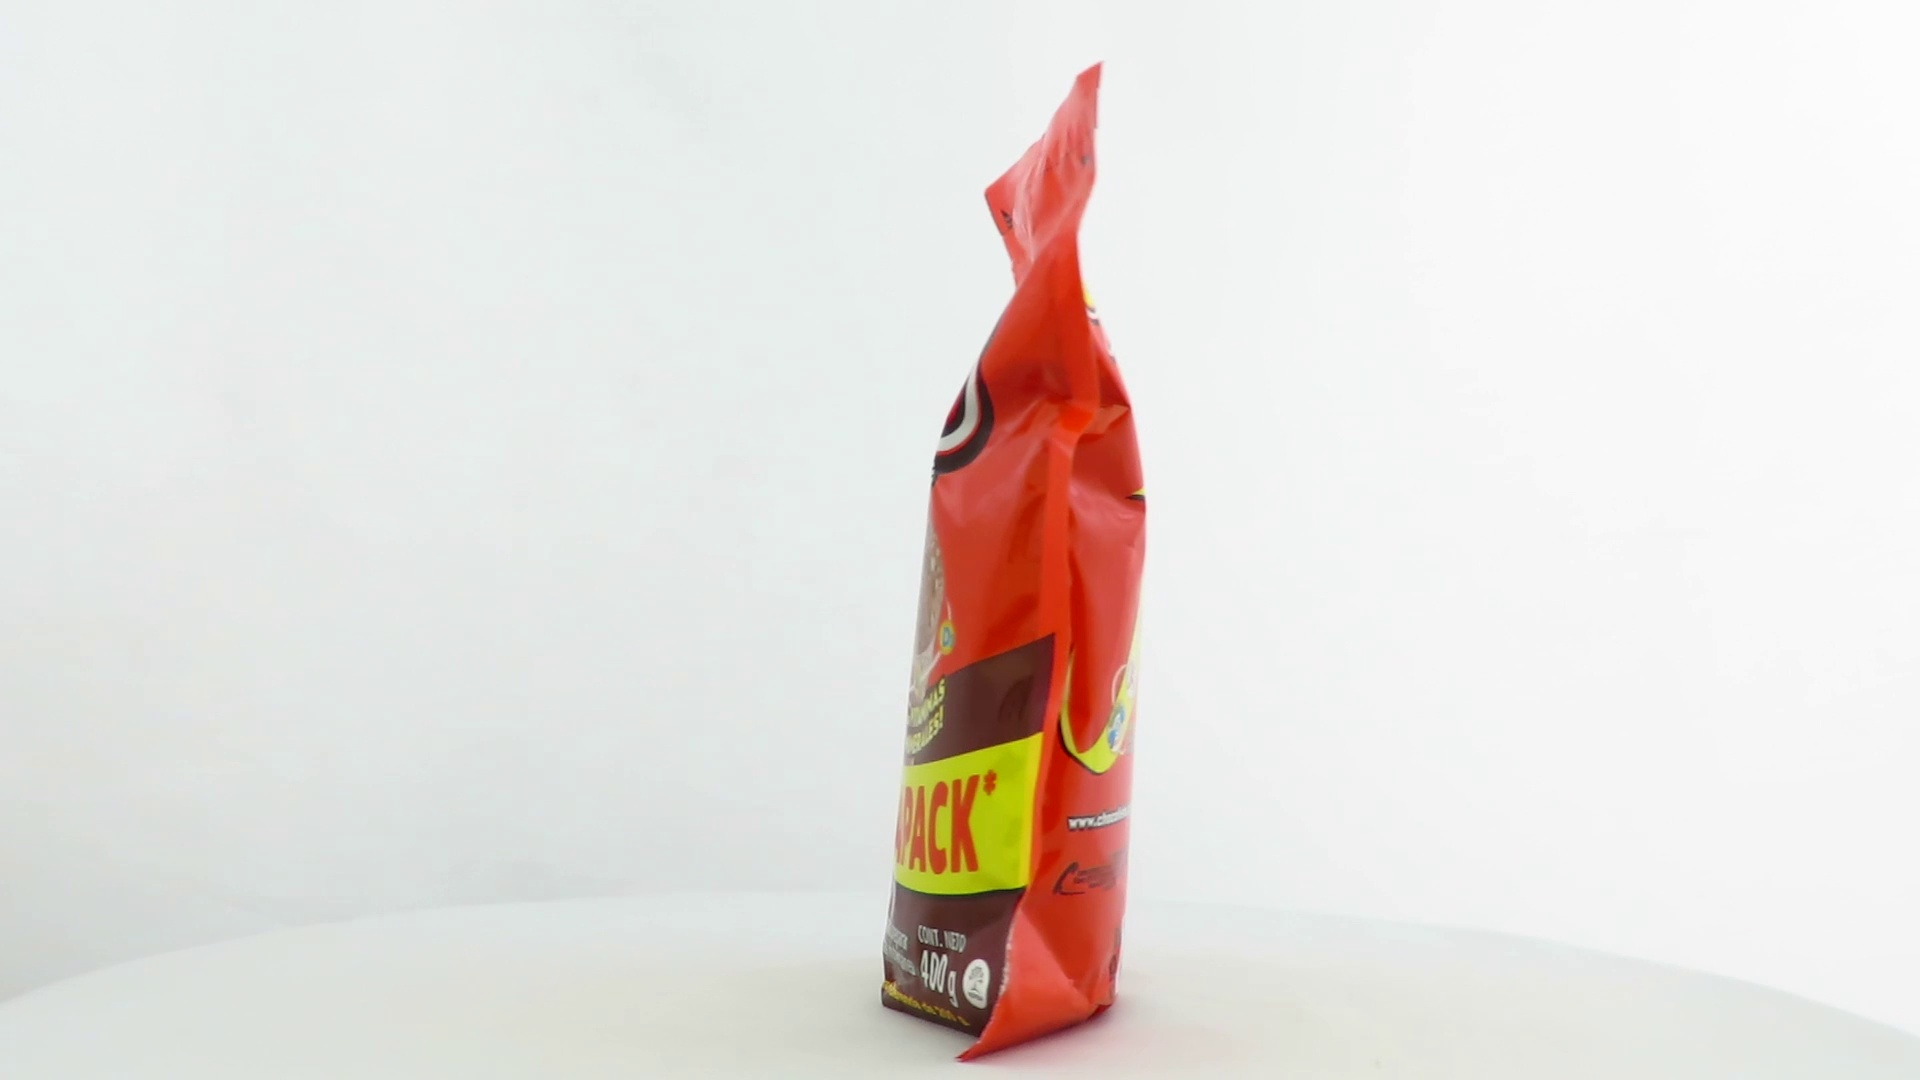COL0170103DYP40000: (876, 57, 1153, 1069)
